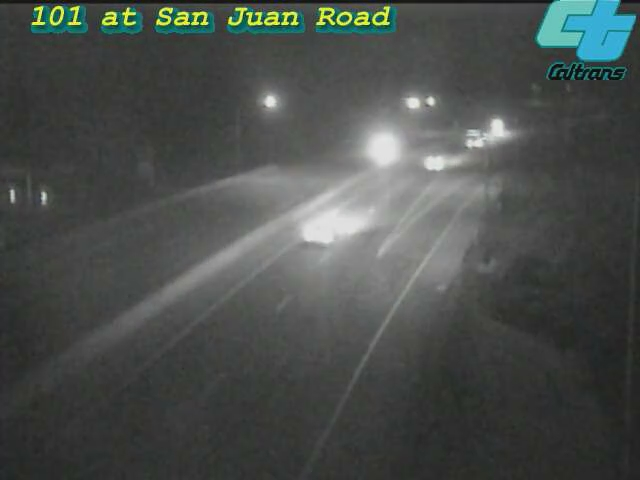vehicle: (392, 125, 472, 205), (287, 190, 367, 270), (358, 123, 408, 173), (472, 101, 522, 151), (471, 109, 521, 159), (452, 114, 502, 164)
